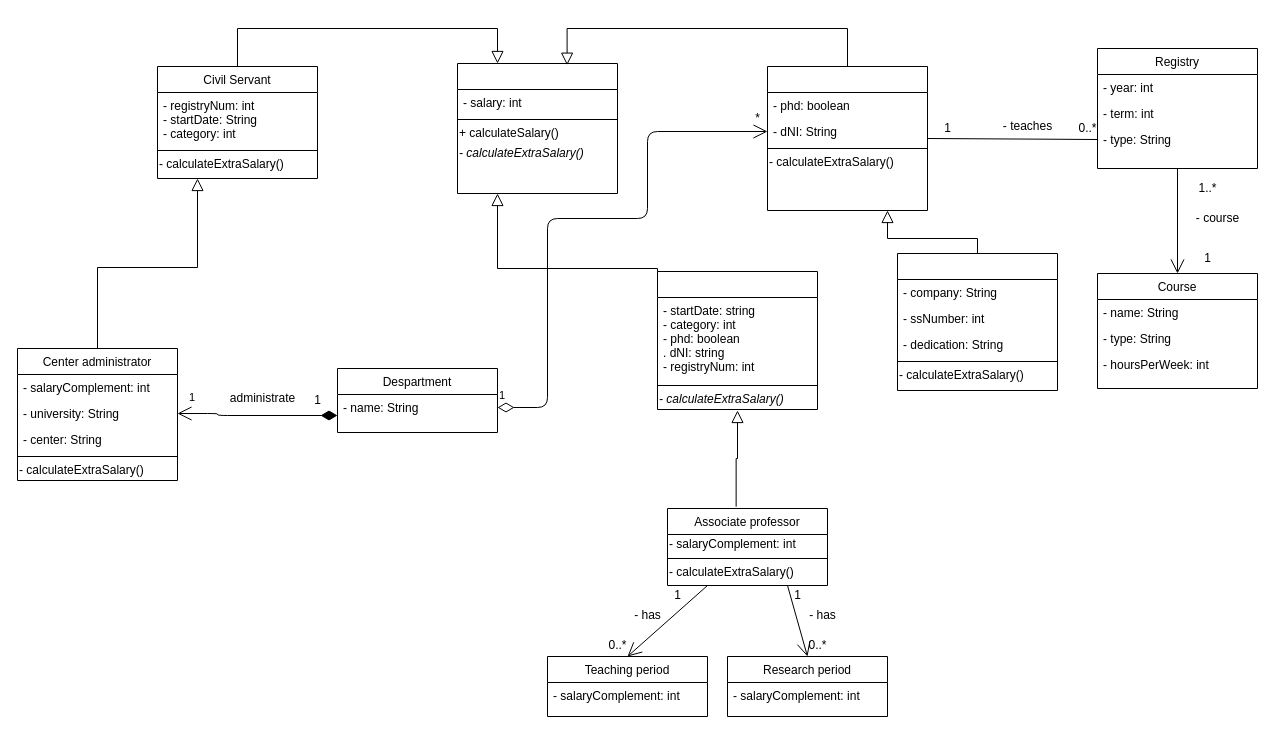
This 1275x734 diagram has some shape labels left out. Here are the shapes that lost their labels. From the top down, the box of each, then its label:
(456, 62, 618, 194): Staff
(766, 66, 928, 210): Professor
(656, 270, 818, 410): Civil Servant Professor
(896, 252, 1058, 390): Adjunct professor
